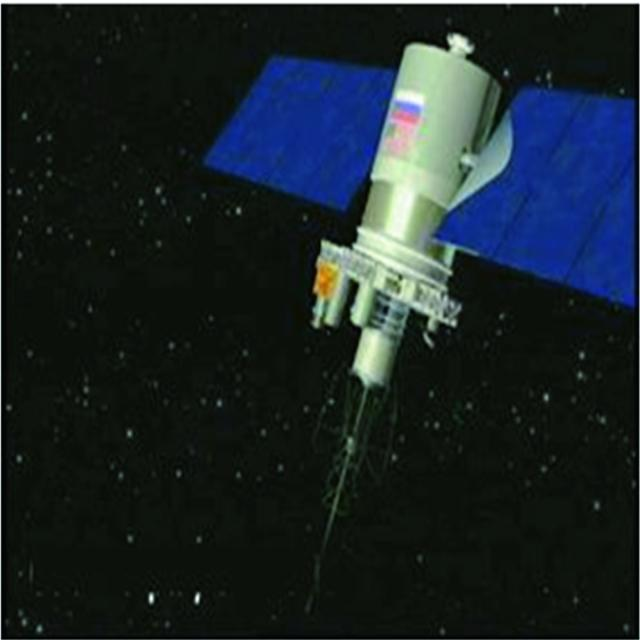satellite: (198, 12, 640, 608)
